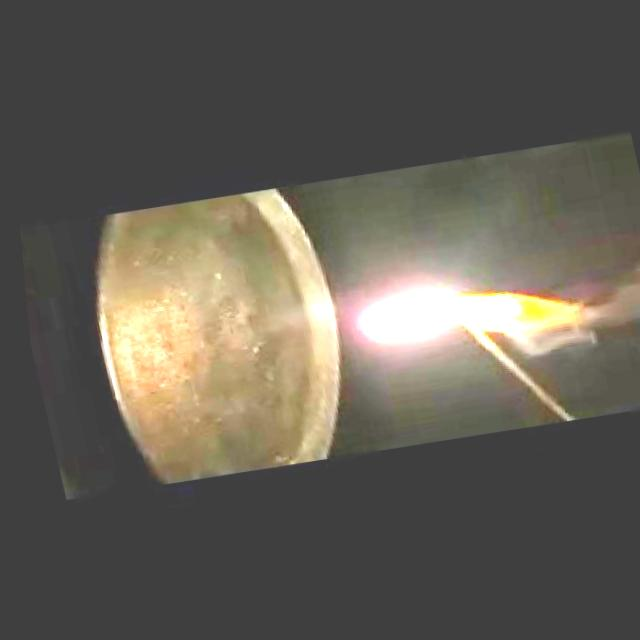helmet: (347, 265, 587, 362)
